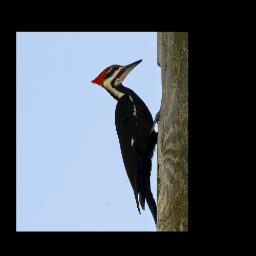Woodpecker: (88, 58, 159, 214)
